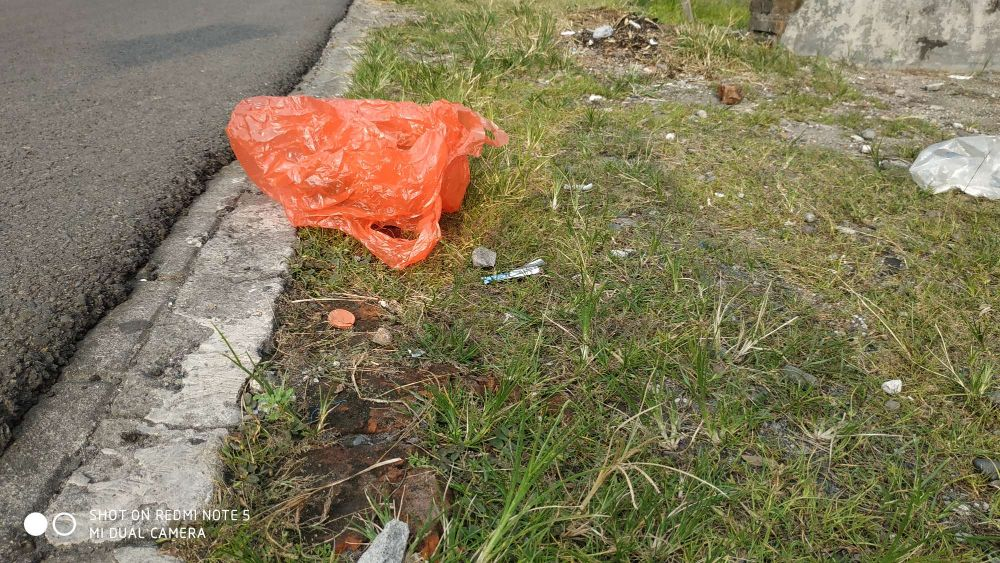plastik: (211, 72, 539, 300)
